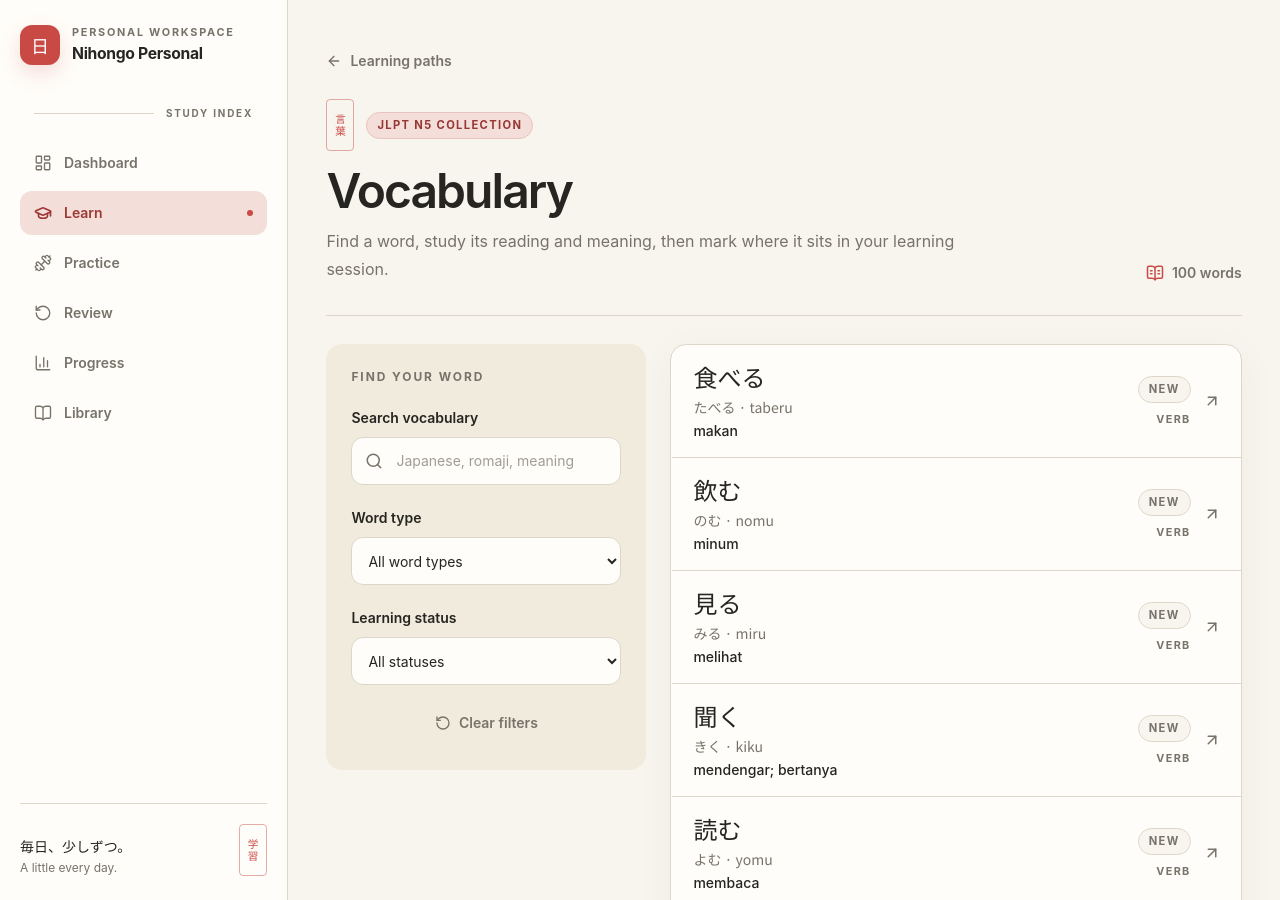
Test: Vocabulary learning › filters vocabulary by word type
Select "adjective" in the dropdown labelled "Word type" at (486, 561), box [351, 537, 621, 585]
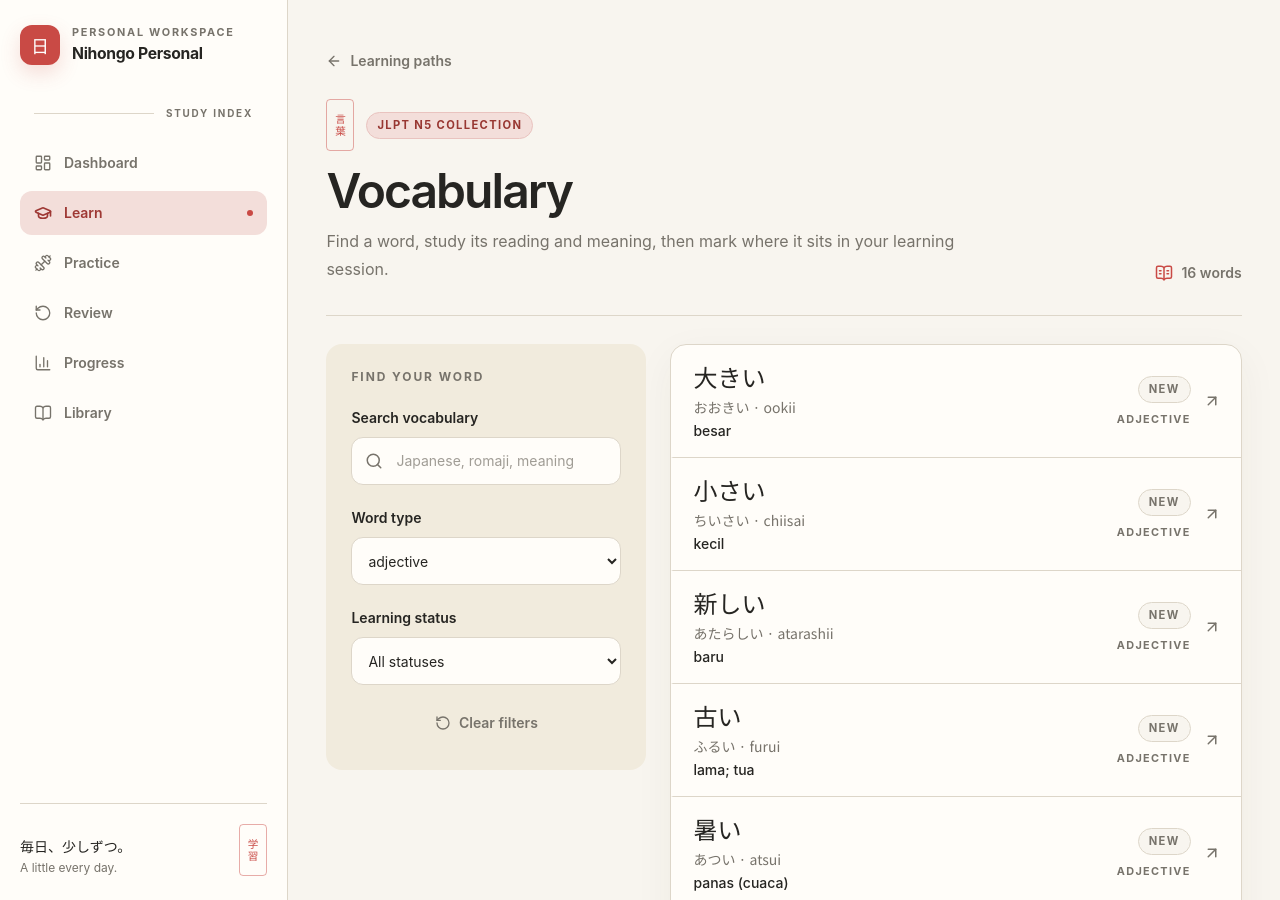
Check: the link with aria-label "Study 大きい" is shown, box [673, 345, 1241, 457]
Check: the text "16 words" is shown, box [1182, 263, 1242, 283]
